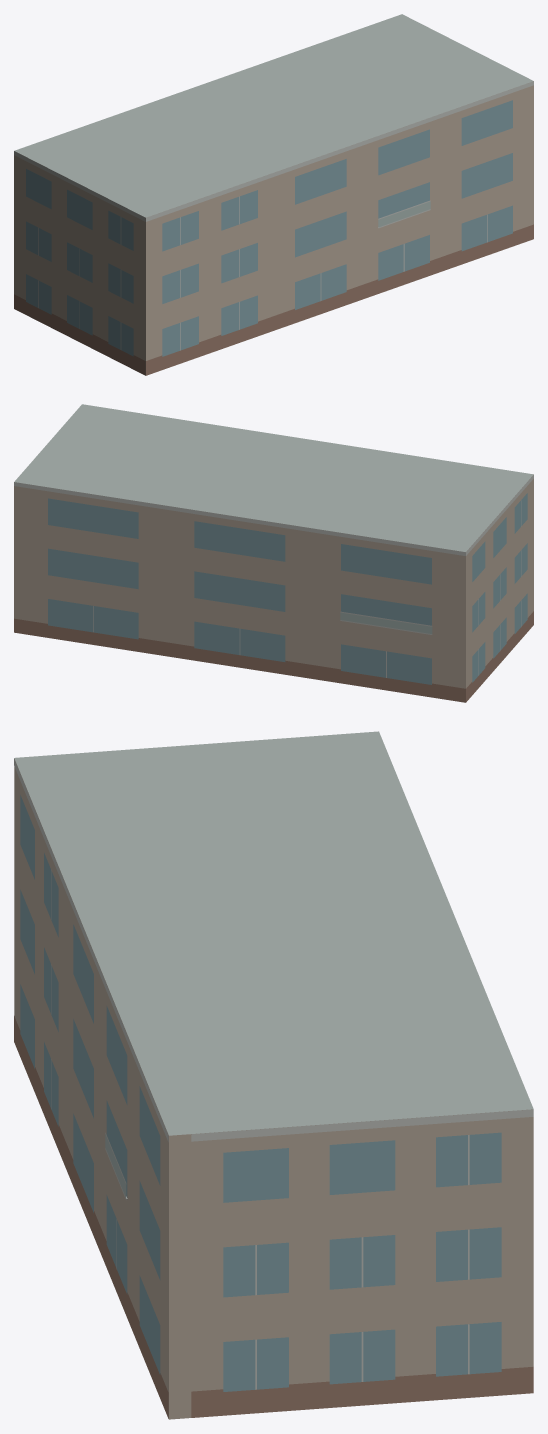
The model's file is survey-upis-33038728.glb.
3 renders of one model, top to bottom at view 1: azimuth 30°, elevation 25°; view 2: azimuth 150°, elevation 25°; view 3: azimuth 270°, elevation 25°, orthographic. The views are drawn at different scales.
Visible parts, largest first — view 1: survey-upis-33038728.tmp; view 2: survey-upis-33038728.tmp; view 3: survey-upis-33038728.tmp.
Boxes of the visible parts, x1,y1,x2,y2 form: survey-upis-33038728.tmp: (14, 14, 533, 375); survey-upis-33038728.tmp: (14, 404, 533, 702); survey-upis-33038728.tmp: (14, 731, 533, 1419).
Size of the model in its own units: 27.96 by 9.15 by 15.19.
